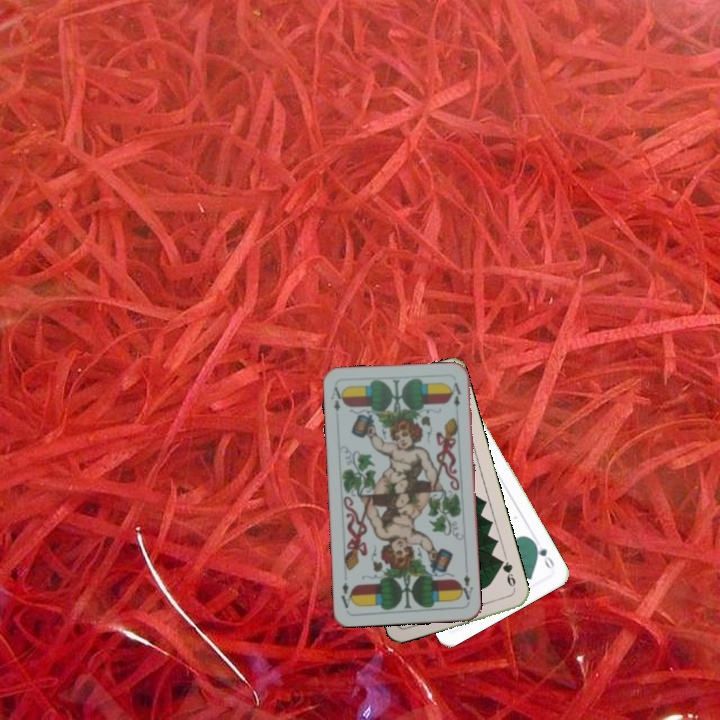EA: (456, 570, 475, 602), (327, 383, 346, 414)
G9: (495, 555, 518, 594)
GO: (529, 537, 557, 572)
